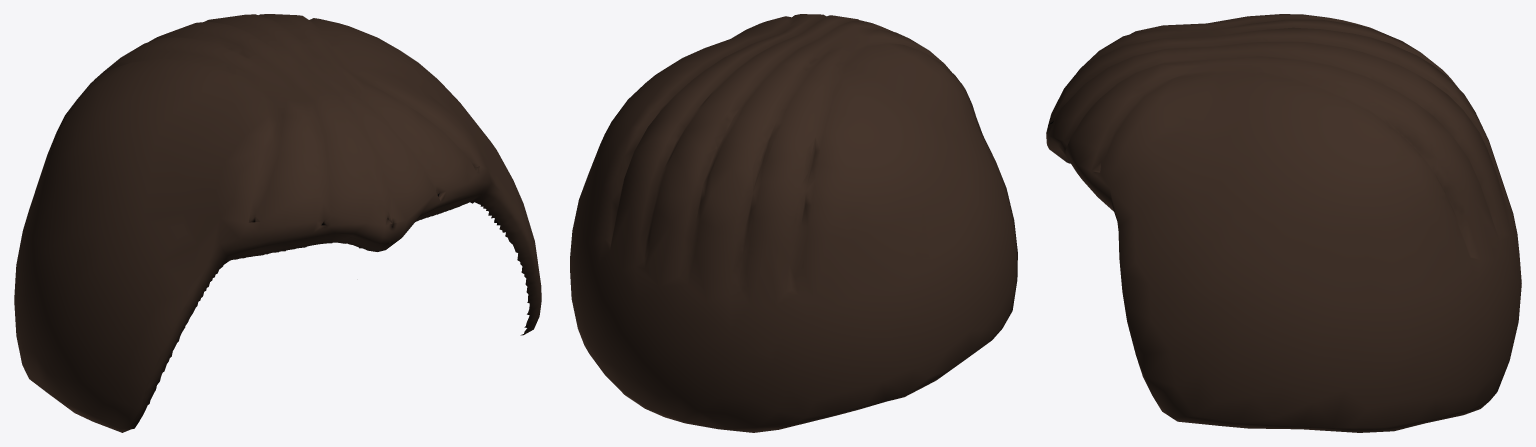
Rendered from hair_slick.glb.
3 renders of one model, left to right at view 1: azimuth 30°, elevation 25°; view 2: azimuth 150°, elevation 25°; view 3: azimuth 270°, elevation 25°, orthographic. The views are drawn at different scales.
Parts seen in each view (by area): view 1: hair_slick; view 2: hair_slick; view 3: hair_slick.
Boxes of the visible parts, x1=… form: hair_slick: x1=14, y1=14, x2=541, y2=432; hair_slick: x1=570, y1=14, x2=1017, y2=432; hair_slick: x1=1046, y1=14, x2=1521, y2=432.
Bounding box in the file's own units: 0.5684 × 0.4254 × 0.5403.
Materials: 1 (1 with a texture image).
